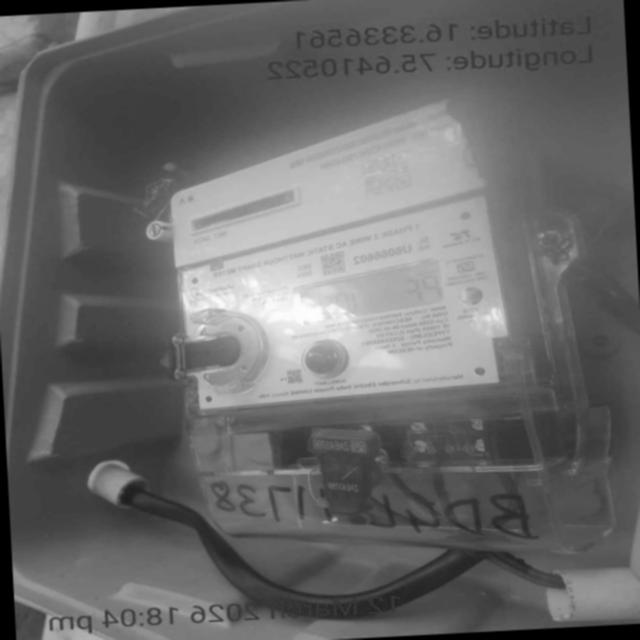meter: (172, 98, 502, 408)
